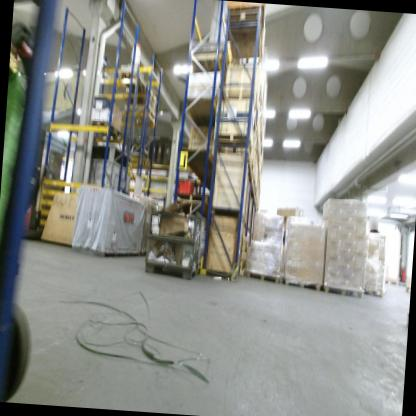pallet: (89, 120, 124, 142), (284, 276, 323, 294), (323, 283, 365, 298), (176, 190, 208, 208), (239, 232, 250, 279), (247, 269, 280, 282), (120, 70, 138, 85), (365, 288, 387, 297)
stillage: (145, 208, 203, 280), (194, 214, 212, 279)
